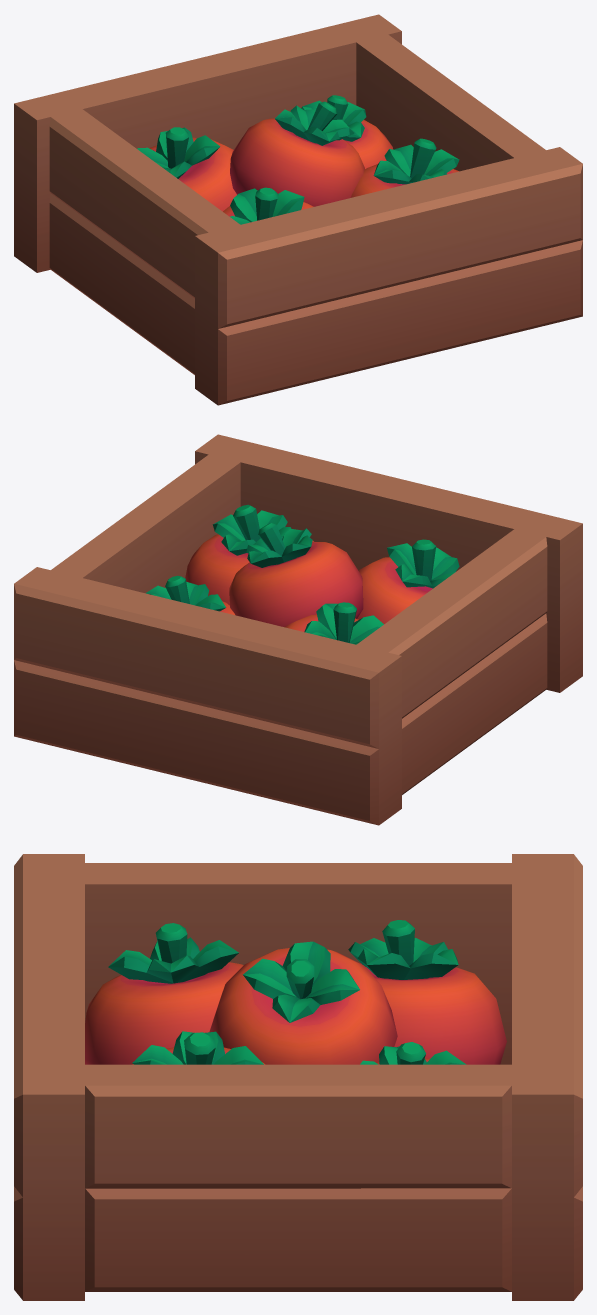
The model's file is crate_tomatoes.glb.
The picture shows the model from 3 angles, top to bottom: view 1: azimuth 30°, elevation 25°; view 2: azimuth 150°, elevation 25°; view 3: azimuth 270°, elevation 25°; orthographic projection. The views are drawn at different scales.
Visible parts, largest first — view 1: crate_tomatoes; view 2: crate_tomatoes; view 3: crate_tomatoes.
Part boxes in pixels (x1=…): crate_tomatoes: x1=14, y1=14, x2=582, y2=405; crate_tomatoes: x1=14, y1=434, x2=582, y2=825; crate_tomatoes: x1=14, y1=854, x2=582, y2=1300.
Size of the model in its own units: 0.8664 by 0.4 by 0.8664.
1 material, 1 textured.
